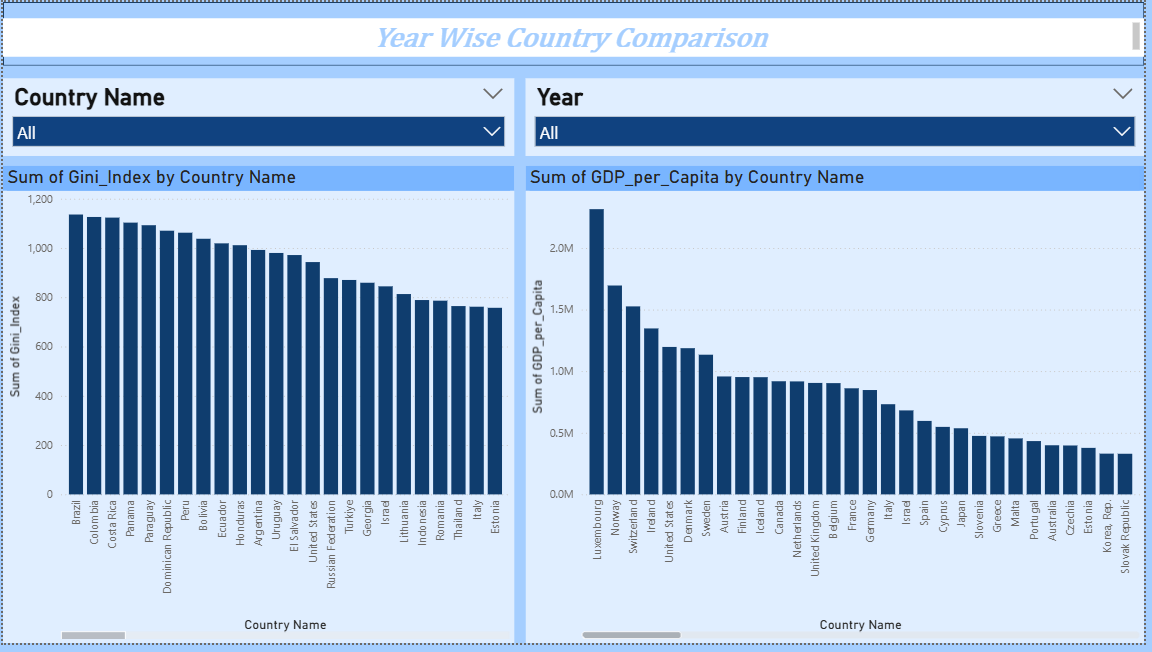

The dashboard page shown, as its layout file describes it:
{"tool":"powerbi","page":{"name":"Country Comparison","canvas":[1280,720],"ordinal":1},"visuals":[{"type":"slicer","fields":{"Values":["cleaned_income_data.Country Name"]},"box":[0,85.5,573.5,86.9],"z":0},{"type":"slicer","fields":{"Values":["cleaned_income_data.Year"]},"box":[586.2,85.5,694.1,86.9],"z":1000},{"type":"clusteredColumnChart","fields":{"Category":["cleaned_income_data.Country Name"],"Y":["Sum(cleaned_income_data.Gini_Index)"]},"box":[0,183.7,573.5,535.7],"z":2000},{"type":"clusteredColumnChart","fields":{"Y":["Sum(cleaned_income_data.GDP_per_Capita)"],"Category":["cleaned_income_data.Country Name"]},"box":[586.2,183.7,694.1,535.7],"z":3000},{"type":"shape","box":[0,0,1280.3,71.5],"z":3001},{"type":"textbox","box":[0,18.2,1280.3,43.5],"z":3002}]}

Visuals, with their boxes in screenshot pixels (x1, y1, x2, y2), scaled from the page's 1280x720 canvas onto the 1152x652 screenshot:
slicer - cleaned_income_data.Country Name: <box>0,77,516,156</box>
slicer - cleaned_income_data.Year: <box>528,77,1151,156</box>
clusteredColumnChart - cleaned_income_data.Country Name x Sum(cleaned_income_data.Gini_Index): <box>0,166,516,651</box>
clusteredColumnChart - Sum(cleaned_income_data.GDP_per_Capita) x cleaned_income_data.Country Name: <box>528,166,1151,651</box>
shape: <box>0,0,1151,65</box>
textbox: <box>0,16,1151,56</box>
